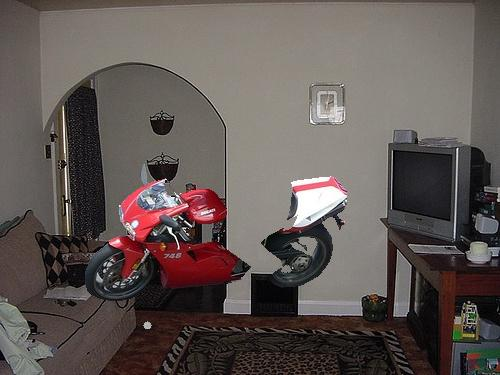tampered: (86, 165, 347, 329)
